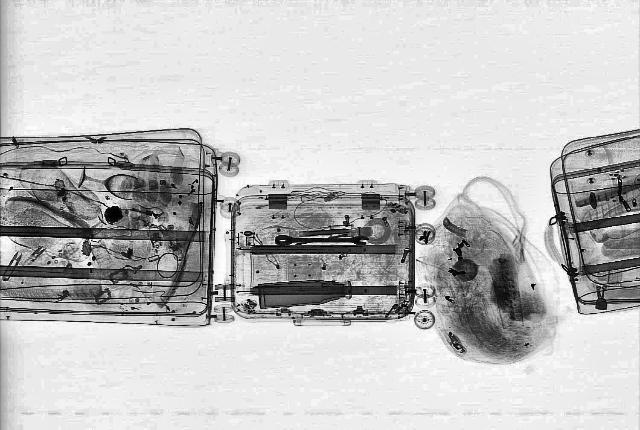Wrench: (274, 234, 368, 248)
